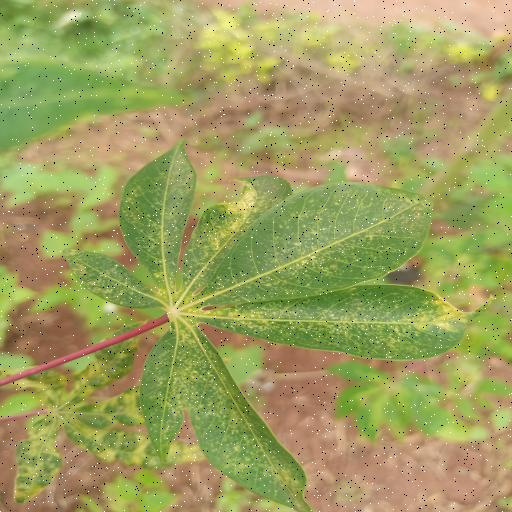Cassava_Mosaic: (76, 148, 500, 512)
